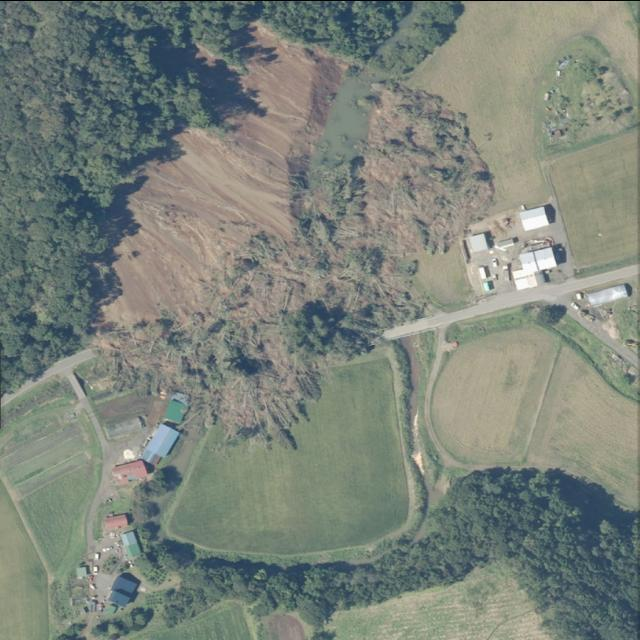landslide: (105, 81, 493, 439), (105, 25, 348, 325)
